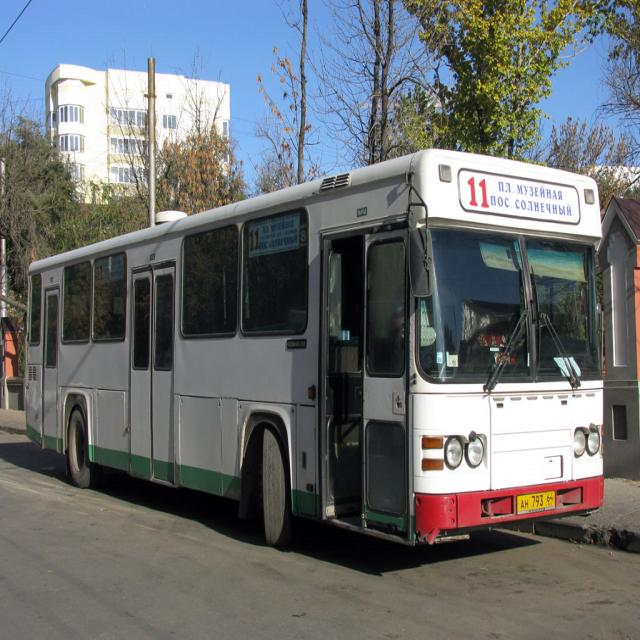number-of-bus: (466, 169, 494, 211)
